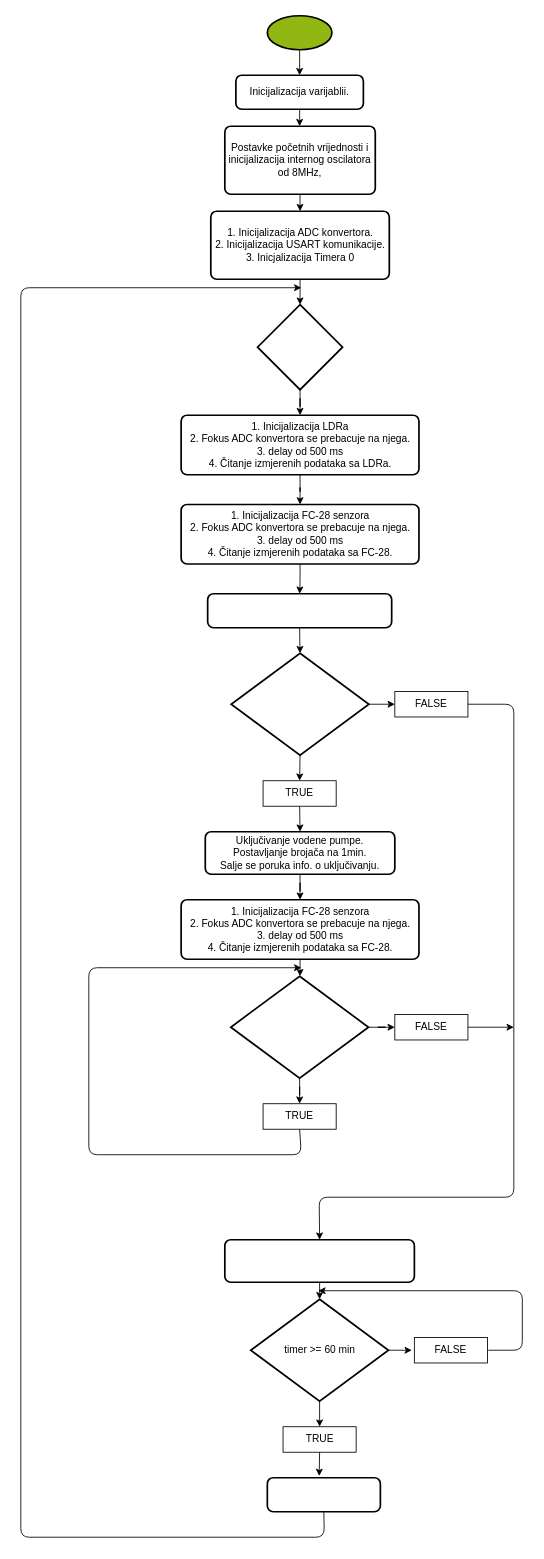
Some shapes in this 544 by 1559 pixel diagram are drawn without their labels. Here are the shapes that lost their labels. From the top down, the box of each, then its label:
(266, 14, 332, 50): START
(256, 303, 343, 390): while(1)
(206, 592, 392, 628): Mjeri se temperatura i vlažnost vazduha DHT11 senzora.
(230, 652, 369, 756): soil_humidity<10 AND water_pump = off
(230, 975, 369, 1079): soil_humidity<30 AND timer < 1min
(224, 1238, 415, 1283): Slanje podataka mjerenja na internet korištenjem ESP01 modula.
(266, 1476, 381, 1512): Reset timer
